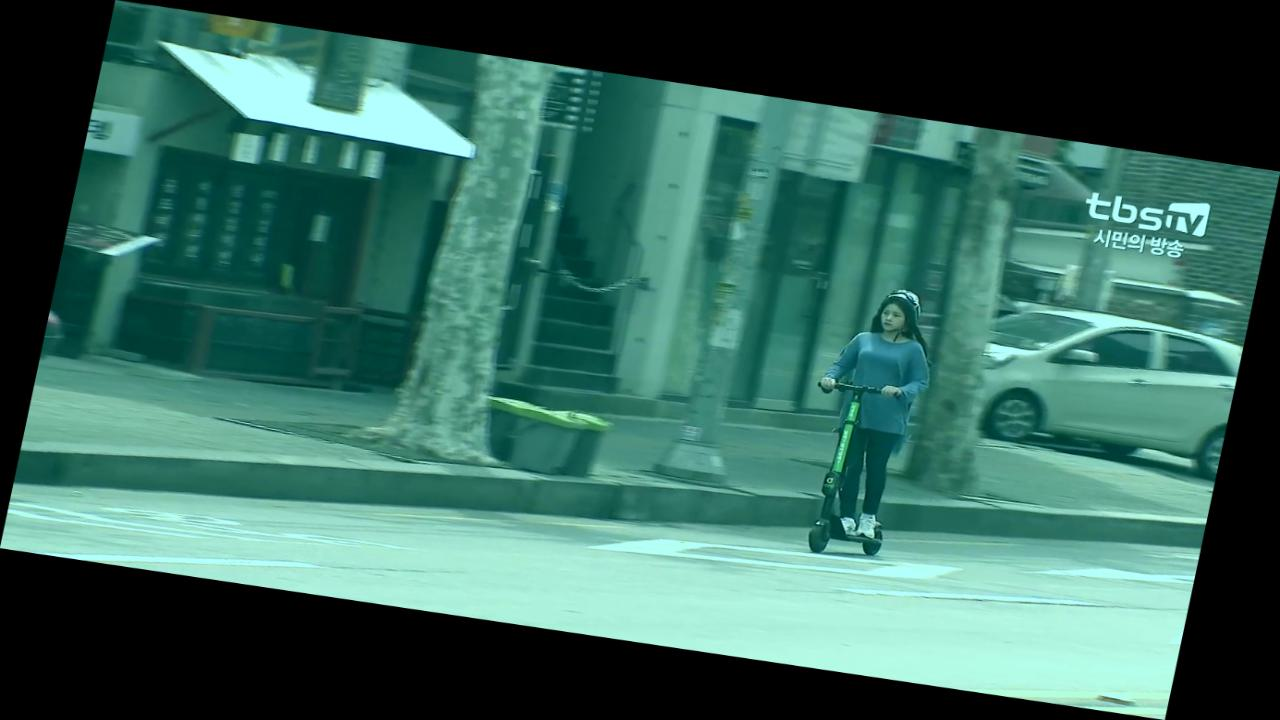helmet: (780, 280, 953, 567)
